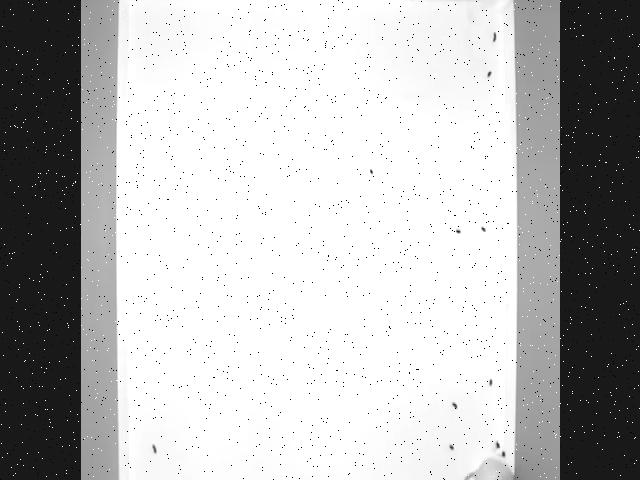Tikus: (456, 453, 520, 480)
